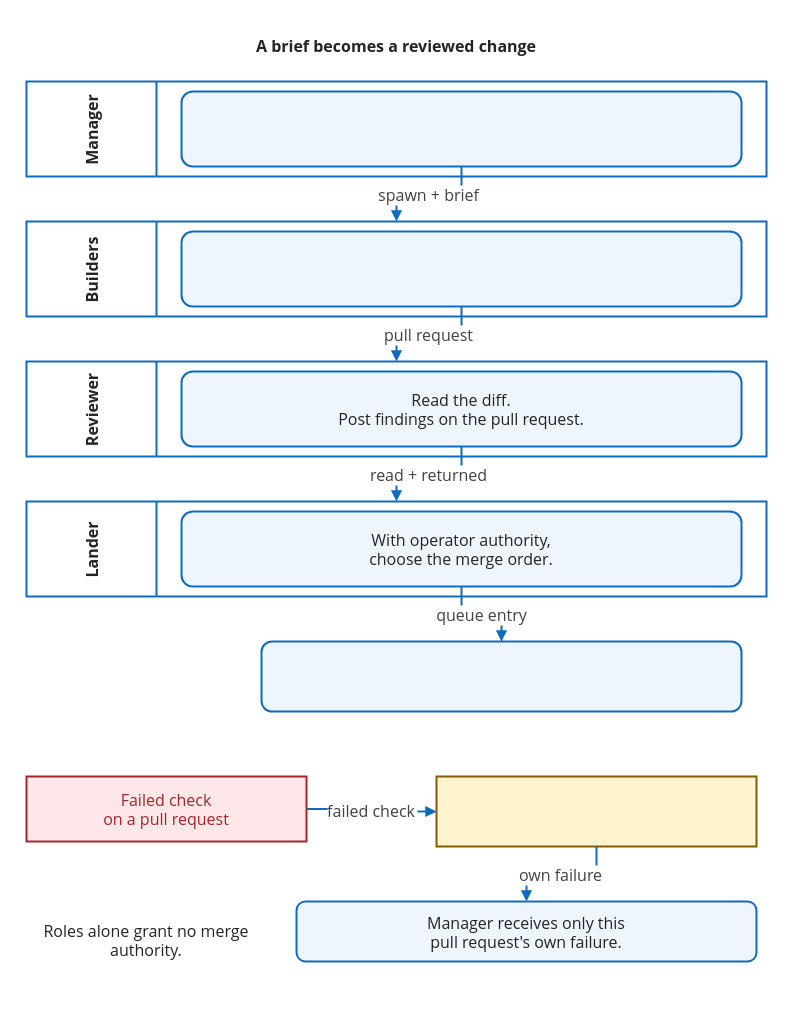
This 793x1023 diagram has some shape labels left out. Each missing label, with the centre of its shape:
Merge queue Merges into trunk: pixel 501 676
One or more subagents. Own worktree + branch. Build, push, report.: pixel 461 268
Regulator Identify whose failure it is.: pixel 596 811
Run one or more builders. Write a brief for each task.: pixel 461 128
